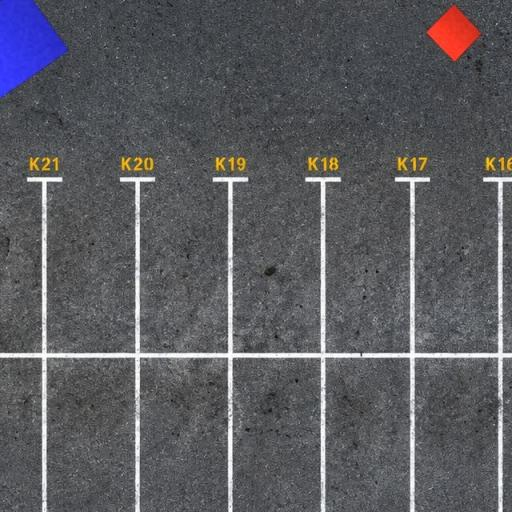BLUE_SQUARE: (0, 0, 70, 101)
RED_SQUARE: (426, 3, 482, 63)
